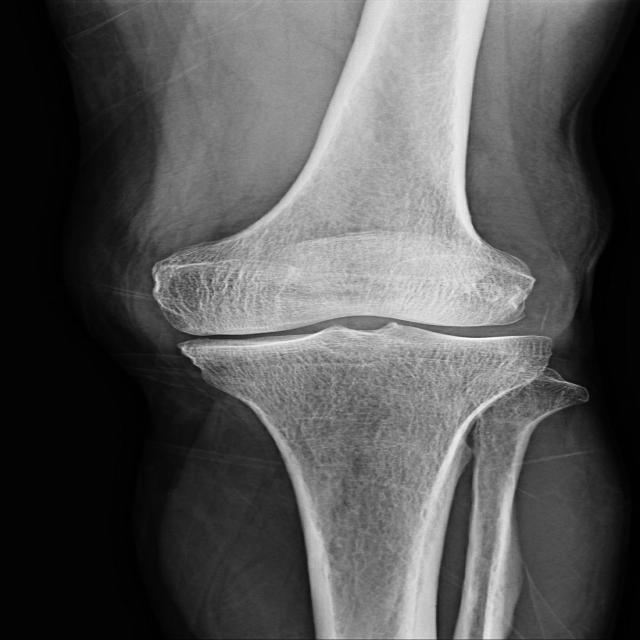osteo: (138, 240, 563, 366)
